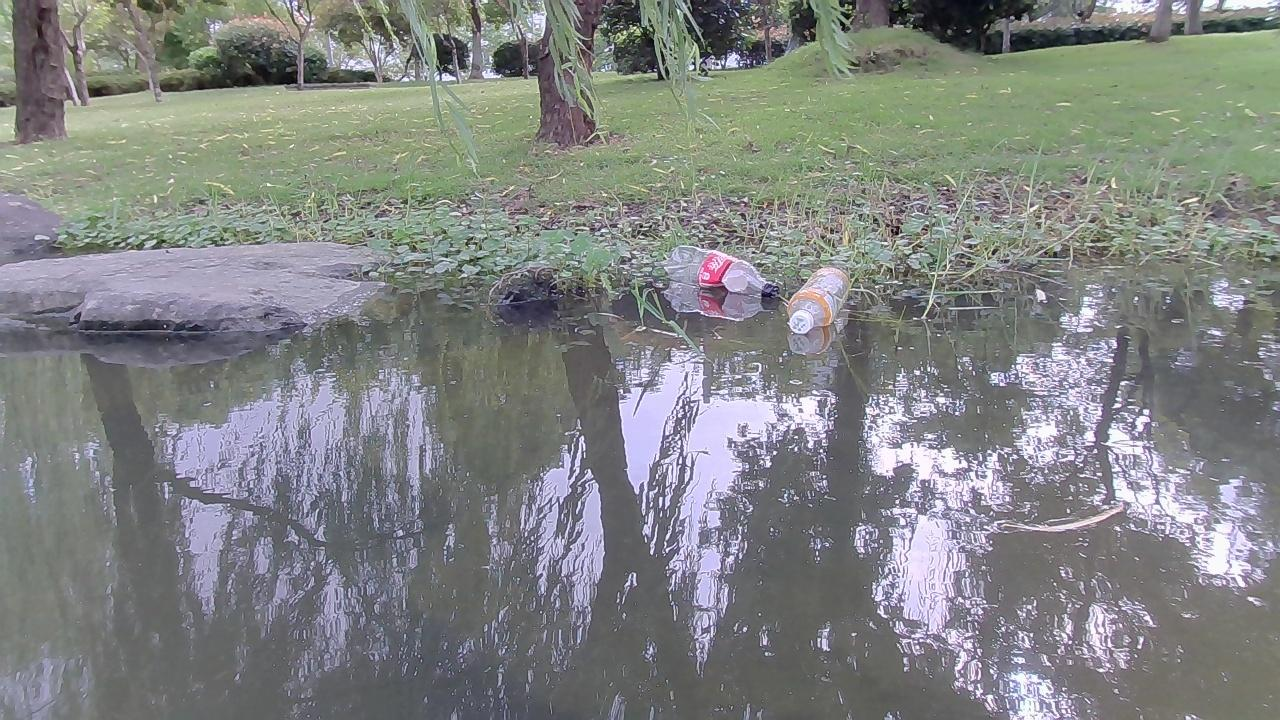bottle: (667, 238, 786, 308), (787, 264, 852, 335)
